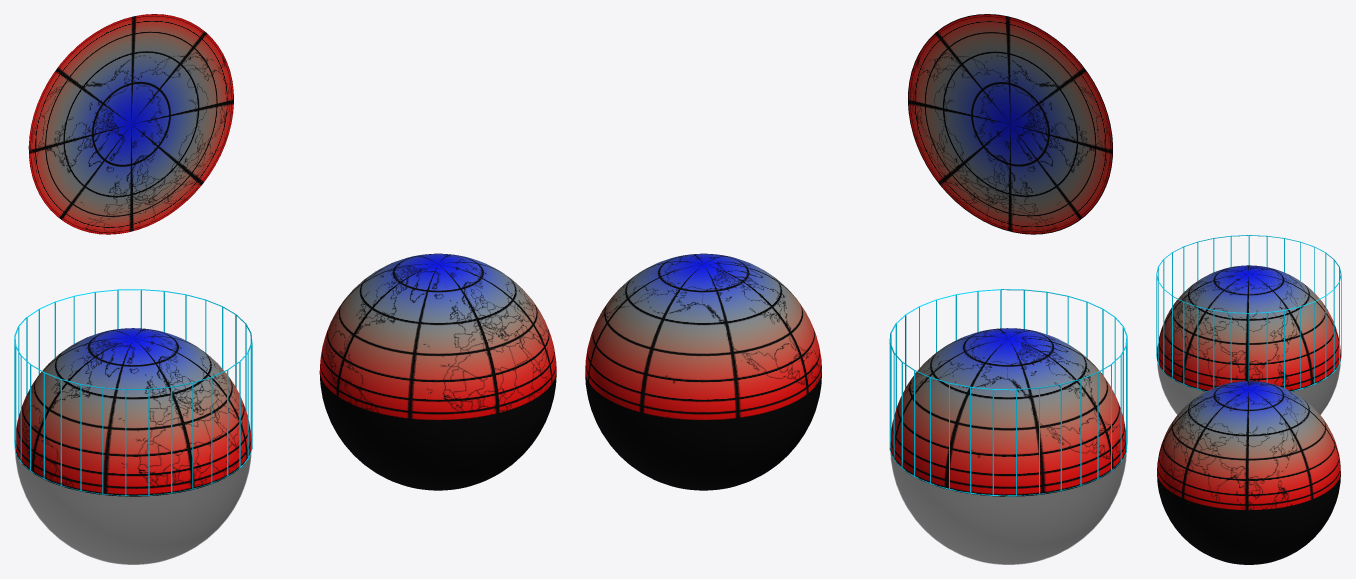
Rendered from orthographic projection.FBX.
3 views of the same model, side by side, from view 1: azimuth 30°, elevation 25°; view 2: azimuth 150°, elevation 25°; view 3: azimuth 270°, elevation 25° (orthographic). The views are drawn at different scales.
Parts seen in each view (by area): view 1: Orthographic_Sphere, Orthographic_Projection, Orthographic_Sphere001, Orthographic_Sphere002, projection_cylinder_wireFrame_003; view 2: Orthographic_Sphere, Orthographic_Projection, Orthographic_Sphere001, Orthographic_Sphere002, projection_cylinder_wireFrame_003; view 3: Orthographic_Sphere, Orthographic_Sphere001, projection_cylinder_wireFrame_003, Orthographic_Sphere002.
Part boxes in pixels (box(x1,y1,x2,y2)): Orthographic_Sphere: box(319, 253, 556, 490); Orthographic_Projection: box(28, 14, 233, 234); Orthographic_Sphere001: box(15, 328, 251, 496); Orthographic_Sphere002: box(15, 452, 251, 564); projection_cylinder_wireFrame_003: box(14, 289, 252, 496); Orthographic_Sphere: box(585, 253, 821, 490); Orthographic_Projection: box(908, 14, 1112, 234); Orthographic_Sphere001: box(890, 328, 1125, 496); Orthographic_Sphere002: box(890, 452, 1126, 564); projection_cylinder_wireFrame_003: box(889, 289, 1127, 496); Orthographic_Sphere: box(1157, 381, 1340, 564); Orthographic_Sphere001: box(1157, 265, 1340, 391); projection_cylinder_wireFrame_003: box(1156, 235, 1341, 391); Orthographic_Sphere002: box(1157, 362, 1340, 414).
Size of the model in its own units: 99.77 by 100 by 40.3.
Materials: 3 (1 with a texture image).
